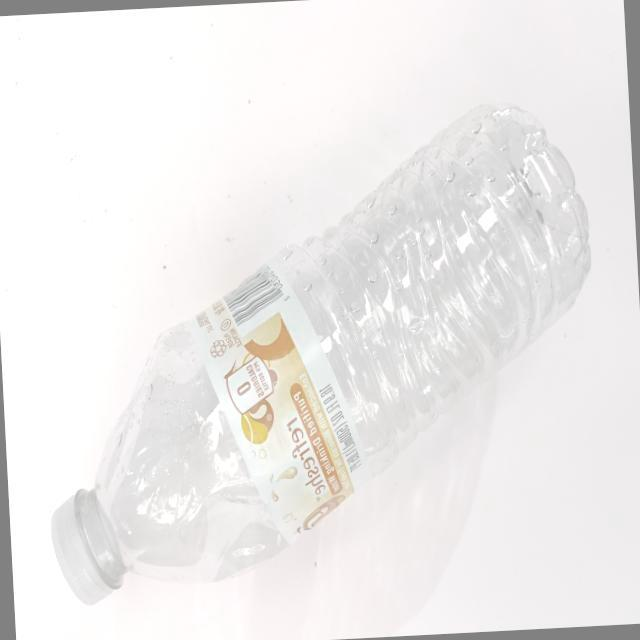plastic: (19, 91, 611, 631)
